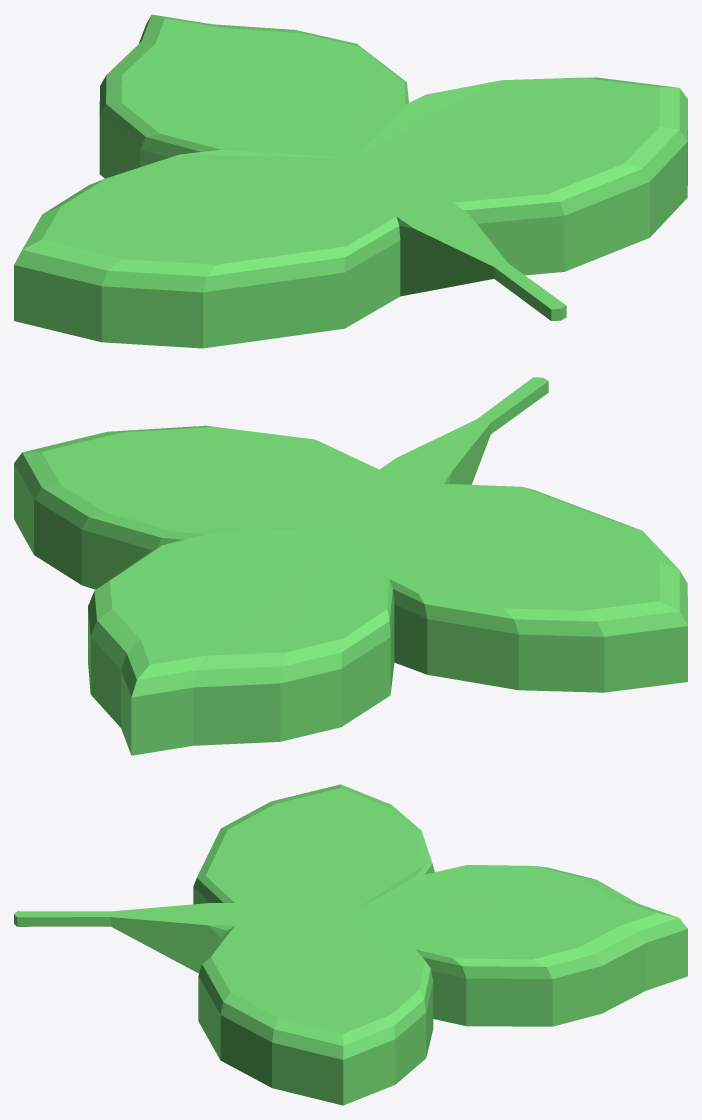
File: HojaBosque.fbx
3 renders of one model, top to bottom at view 1: azimuth 30°, elevation 25°; view 2: azimuth 150°, elevation 25°; view 3: azimuth 270°, elevation 25°, orthographic. The views are drawn at different scales.
Visible parts, largest first — view 1: HojaBosque; view 2: HojaBosque; view 3: HojaBosque.
Part boxes in pixels (box(x1,y1,x2,y2)): HojaBosque: box(14, 14, 687, 348); HojaBosque: box(14, 377, 687, 755); HojaBosque: box(14, 784, 687, 1105).
Bounding box in the file's own units: 3.8 × 0.4177 × 4.03.
